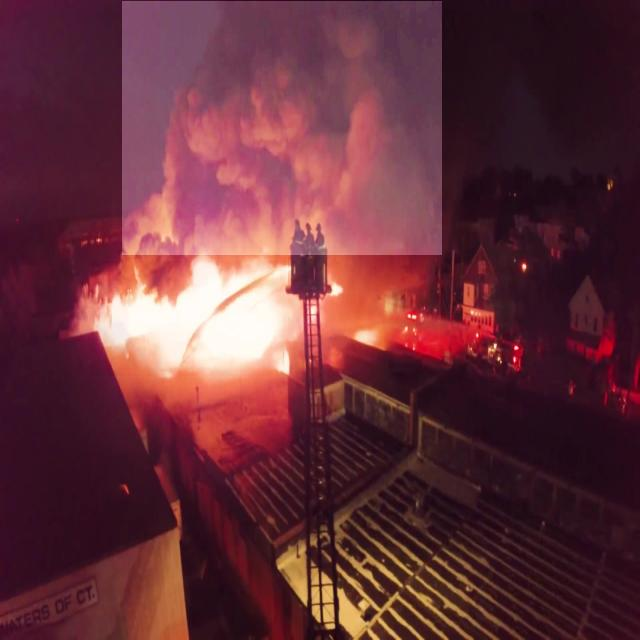Fire: (91, 261, 286, 376)
Smoke: (122, 1, 442, 255)
